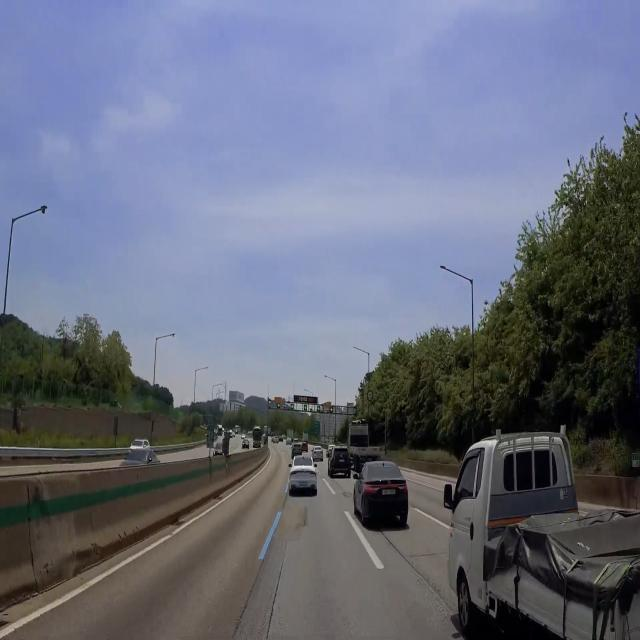car: (380, 485, 398, 499), (338, 455, 348, 467), (297, 481, 311, 488)
